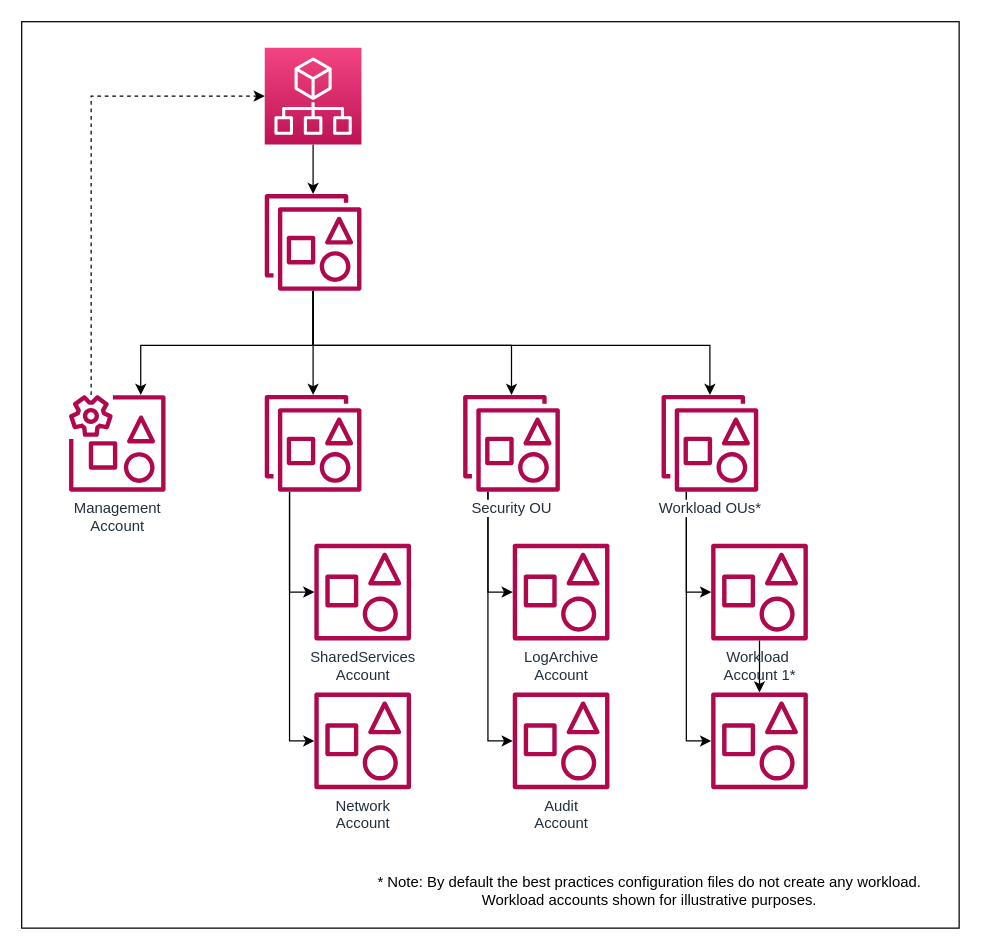
The diagram is 981 pixels wide and 950 high, and some of its shapes have lost their labels. Each missing label, with the centre of its shape:
"AWS Organizations" goes at (x=312, y=95).
"Infrastructure OU" goes at (x=312, y=442).
"Root OU" goes at (x=312, y=241).
"Workload Account x*" goes at (x=759, y=740).
